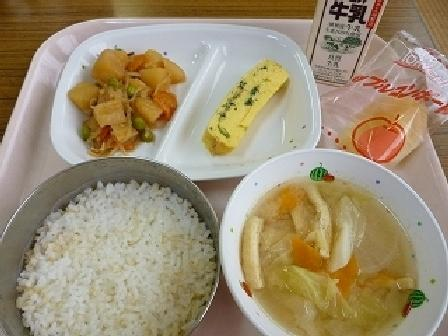Bread: (200, 58, 297, 155)
Milk: (297, 0, 385, 81)
Rice: (3, 158, 223, 334)
Soups: (222, 157, 442, 335)
vegetable based cooked food: (75, 42, 180, 148)
